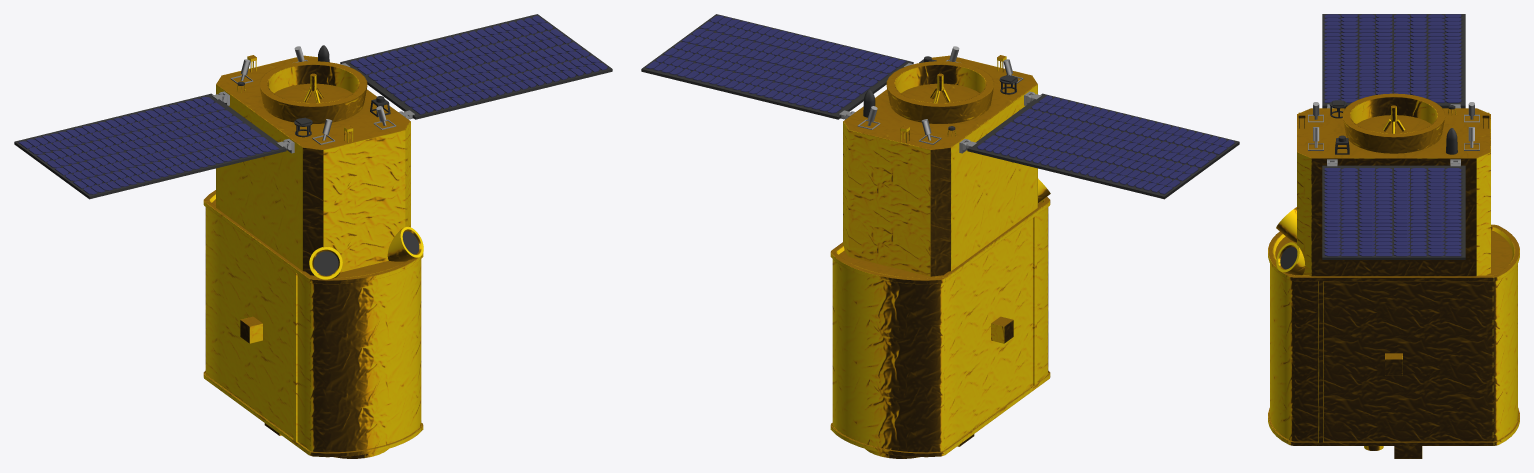
3 views of the same model, side by side, from view 1: azimuth 30°, elevation 25°; view 2: azimuth 150°, elevation 25°; view 3: azimuth 270°, elevation 25° (orthographic). The views are drawn at different scales.
Visible parts, largest first — view 1: Cube.035, Cube.065, Cube.034, Cube.037, Cylinder.032, Cylinder.033, Cylinder.034; view 2: Cube.035, Cube.034, Cube.065, Cube.037, Cylinder.032, Cylinder.034; view 3: Cube.035, Cube.065, Cube.034, Cube.037, Cylinder.032, Cylinder.033, Cylinder.034, Cube.066, Cube.038, Cylinder.041.
Part boxes in pixels (box(x1,y1,x2,y2)): Cube.035: box(203, 190, 423, 457); Cube.065: box(18, 15, 607, 194); Cube.034: box(216, 55, 410, 275); Cube.037: box(14, 14, 612, 199); Cylinder.032: box(259, 61, 367, 123); Cylinder.033: box(309, 226, 423, 279); Cylinder.034: box(230, 46, 396, 144); Cube.035: box(830, 197, 1050, 457); Cube.034: box(843, 55, 1037, 276); Cube.065: box(645, 15, 1234, 194); Cube.037: box(641, 14, 1239, 199); Cylinder.032: box(886, 61, 994, 123); Cylinder.034: box(857, 46, 1023, 144); Cube.035: box(1268, 224, 1519, 445); Cube.065: box(1324, 14, 1461, 256); Cube.034: box(1297, 108, 1490, 276); Cube.037: box(1322, 14, 1465, 259); Cylinder.032: box(1342, 93, 1445, 153); Cylinder.033: box(1276, 207, 1305, 275); Cylinder.034: box(1308, 102, 1479, 150); Cube.066: box(1385, 353, 1402, 375); Cube.038: box(1394, 446, 1422, 458); Cylinder.041: box(1446, 128, 1457, 154).
Bounding box in the file's own units: 5.93 × 3.82 × 2.59.
Materials: 1 (1 with a texture image).
